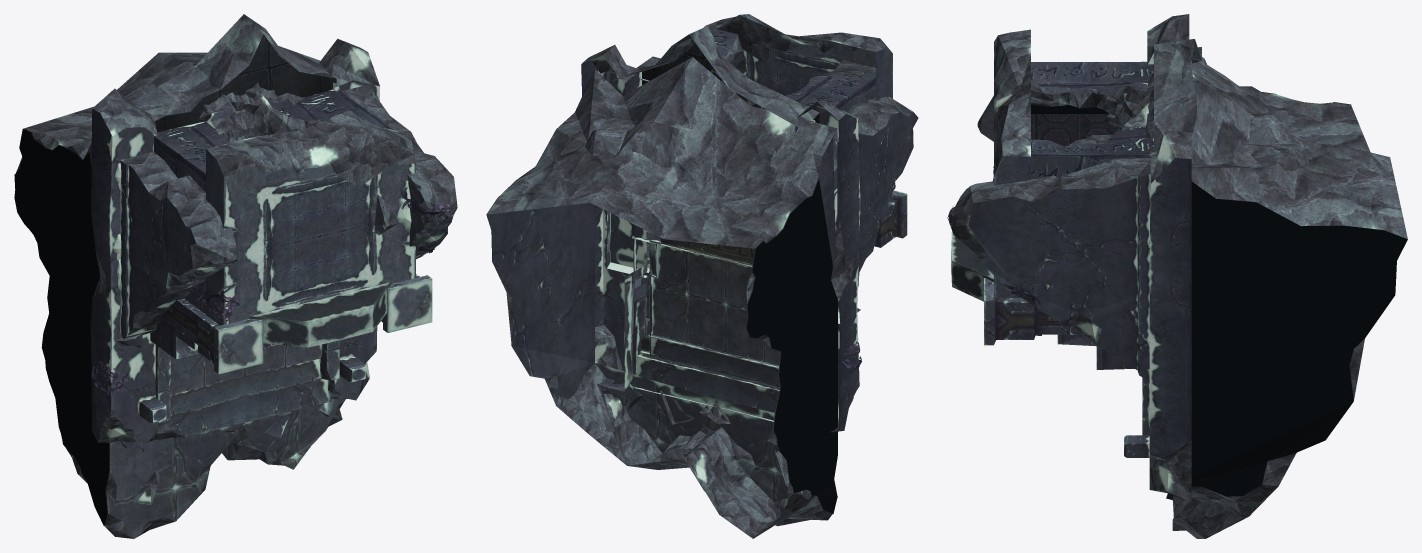
File: huodong_fuben_593_yiji_02.obj
The picture shows the model from 3 angles, left to right: view 1: azimuth 30°, elevation 25°; view 2: azimuth 150°, elevation 25°; view 3: azimuth 270°, elevation 25°; orthographic projection. The views are drawn at different scales.
Parts seen in each view (by area): view 1: huodong_fuben_593_yiji_02; view 2: huodong_fuben_593_yiji_02; view 3: huodong_fuben_593_yiji_02.
Boxes of the visible parts, x1,y1,x2,y2 form: huodong_fuben_593_yiji_02: [14, 14, 457, 538]; huodong_fuben_593_yiji_02: [486, 14, 918, 538]; huodong_fuben_593_yiji_02: [947, 14, 1407, 538].
Bounding box in the file's own units: 713 × 1210 × 991.
Materials: 11 (11 with a texture image).
